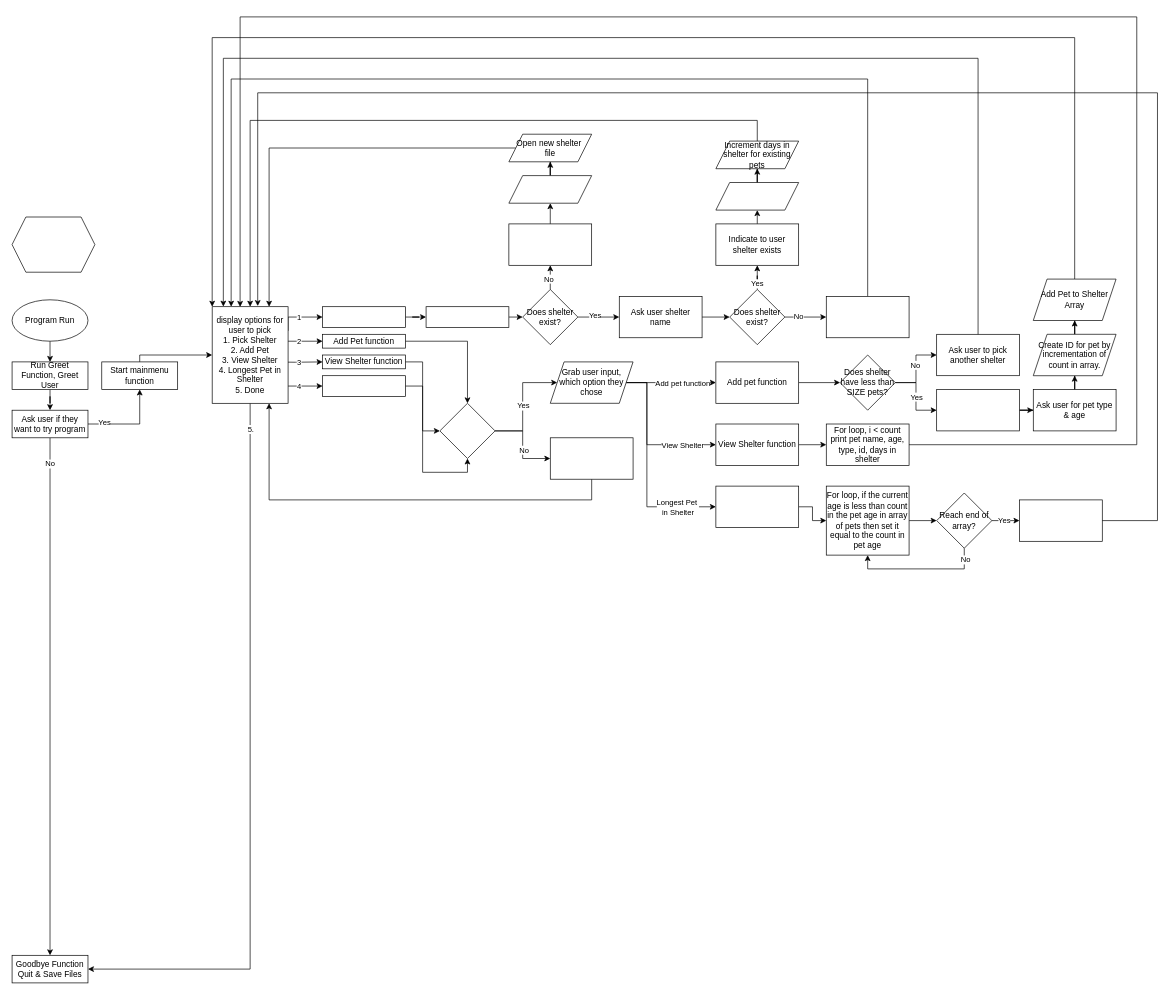
This 1175x995 diagram has some shape labels left out. The shapes that lost their labels are listed below. From the top down, each one's centre as x and y in pixels, then its label:
point (550, 189): Create new shelter file
point (757, 196): Place pets in shelter into an array
point (53, 244): VARIABLE INT SIZE = 10
point (550, 244): Ask user to create a new shelter name
point (363, 316): Shelter function
point (467, 316): Prompt user for Shelter
point (867, 317): Tell user shelter does not exist
point (363, 385): 4. Longest Pet in Shelter Function
point (977, 410): Ask user for pet name
point (467, 431): Did user pick shelter?
point (591, 458): Tell user to pick shelter
point (757, 506): Longest Pet in Shelter Function
point (1060, 520): Print pet name, age, type, id, days in shelter
